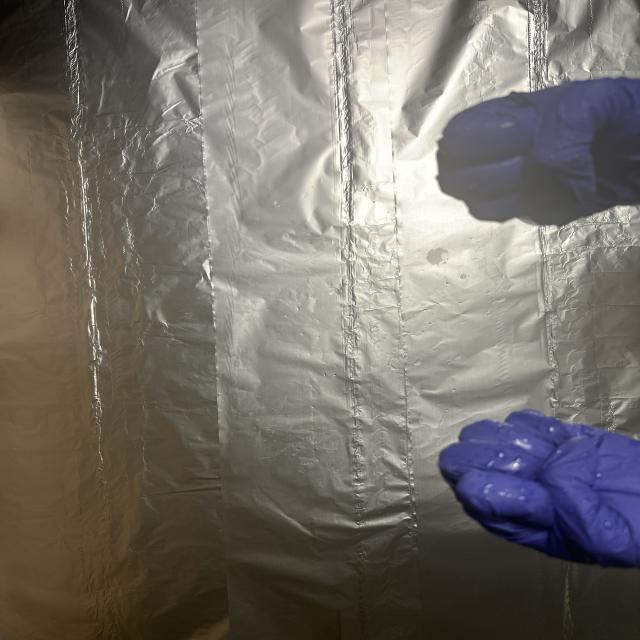gloves_contaminated: (439, 410, 640, 568), (437, 77, 640, 226)
